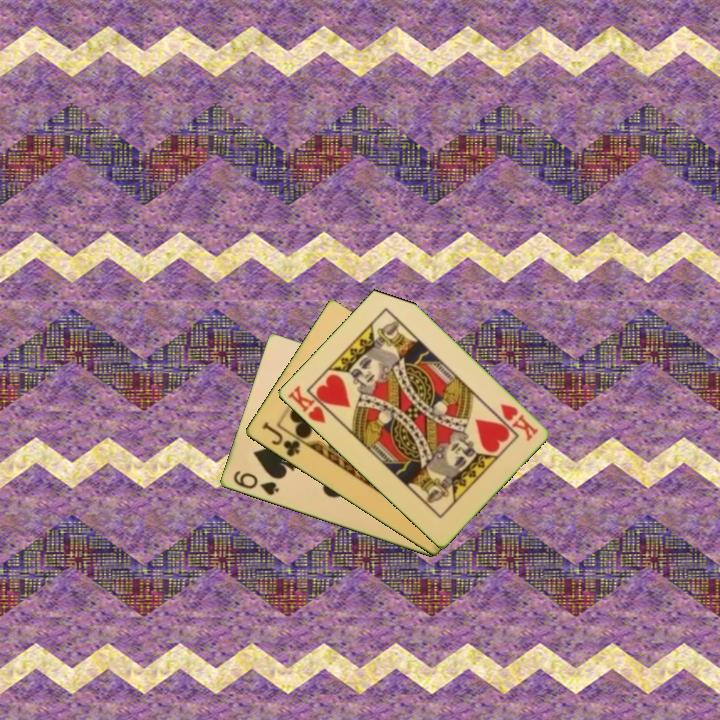6s: (229, 467, 282, 499)
Jc: (258, 418, 303, 460)
Kh: (284, 382, 337, 427), (496, 400, 541, 444)
